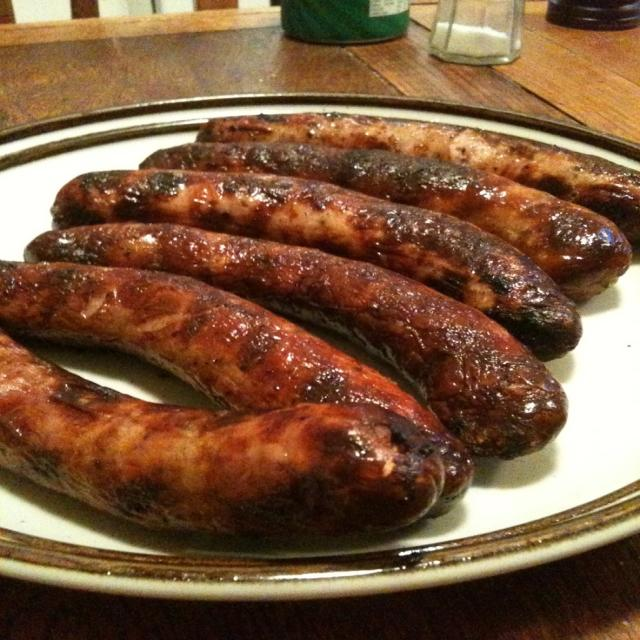sausage: (26, 223, 566, 457), (0, 263, 473, 512), (52, 170, 581, 359), (0, 333, 443, 538), (140, 141, 631, 302), (198, 113, 639, 247)
